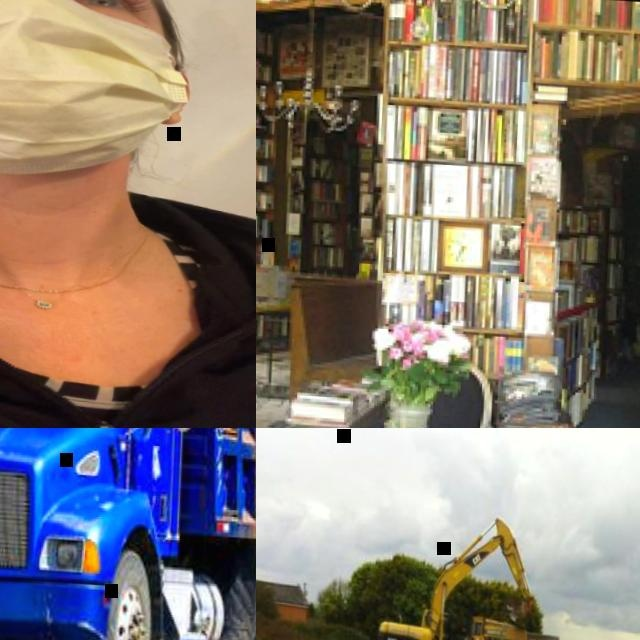Mask: (0, 0, 187, 184)
NO-Safety Vest: (0, 189, 256, 428)
Person: (0, 0, 256, 428)
machinery: (0, 428, 256, 640), (373, 507, 568, 640)
